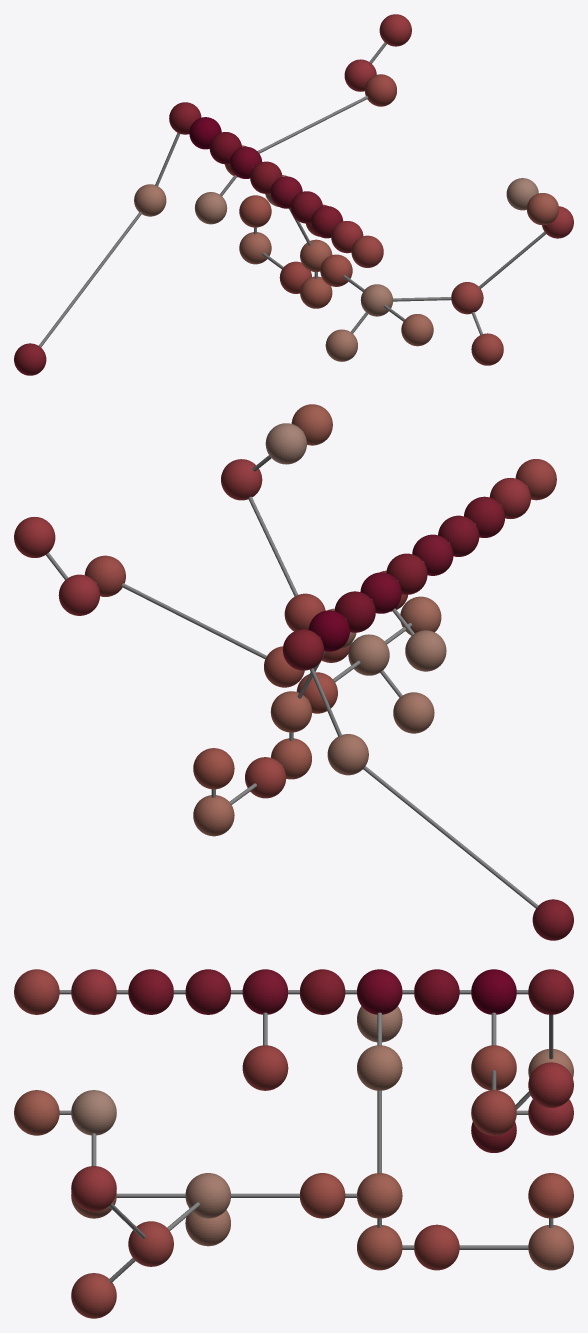
File: Figure_2_similar_1.glb
3 views of the same model, one above another, from view 1: azimuth 30°, elevation 25°; view 2: azimuth 150°, elevation 25°; view 3: azimuth 270°, elevation 25° (orthographic). The views are drawn at different scales.
Visible parts, largest first — view 1: world; view 2: world; view 3: world.
Part boxes in pixels (left/top/right/bottom): world: left=14, top=14, right=573, bottom=375; world: left=14, top=404, right=573, bottom=940; world: left=14, top=969, right=573, bottom=1318.
Size of the model in its own units: 11.8 by 6.8 by 9.8.
